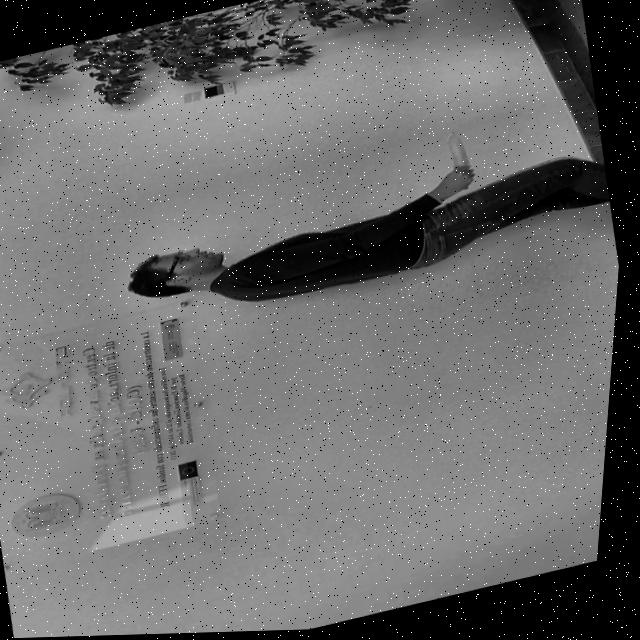knife: (434, 128, 479, 182)
